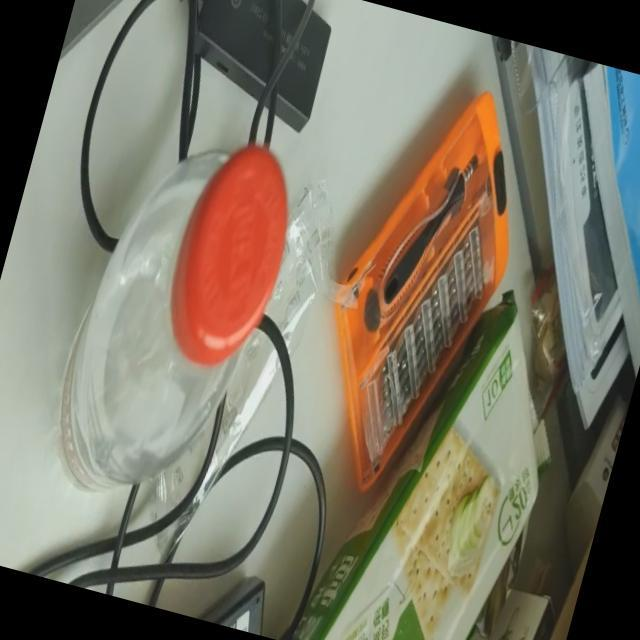good: (37, 104, 310, 525)
